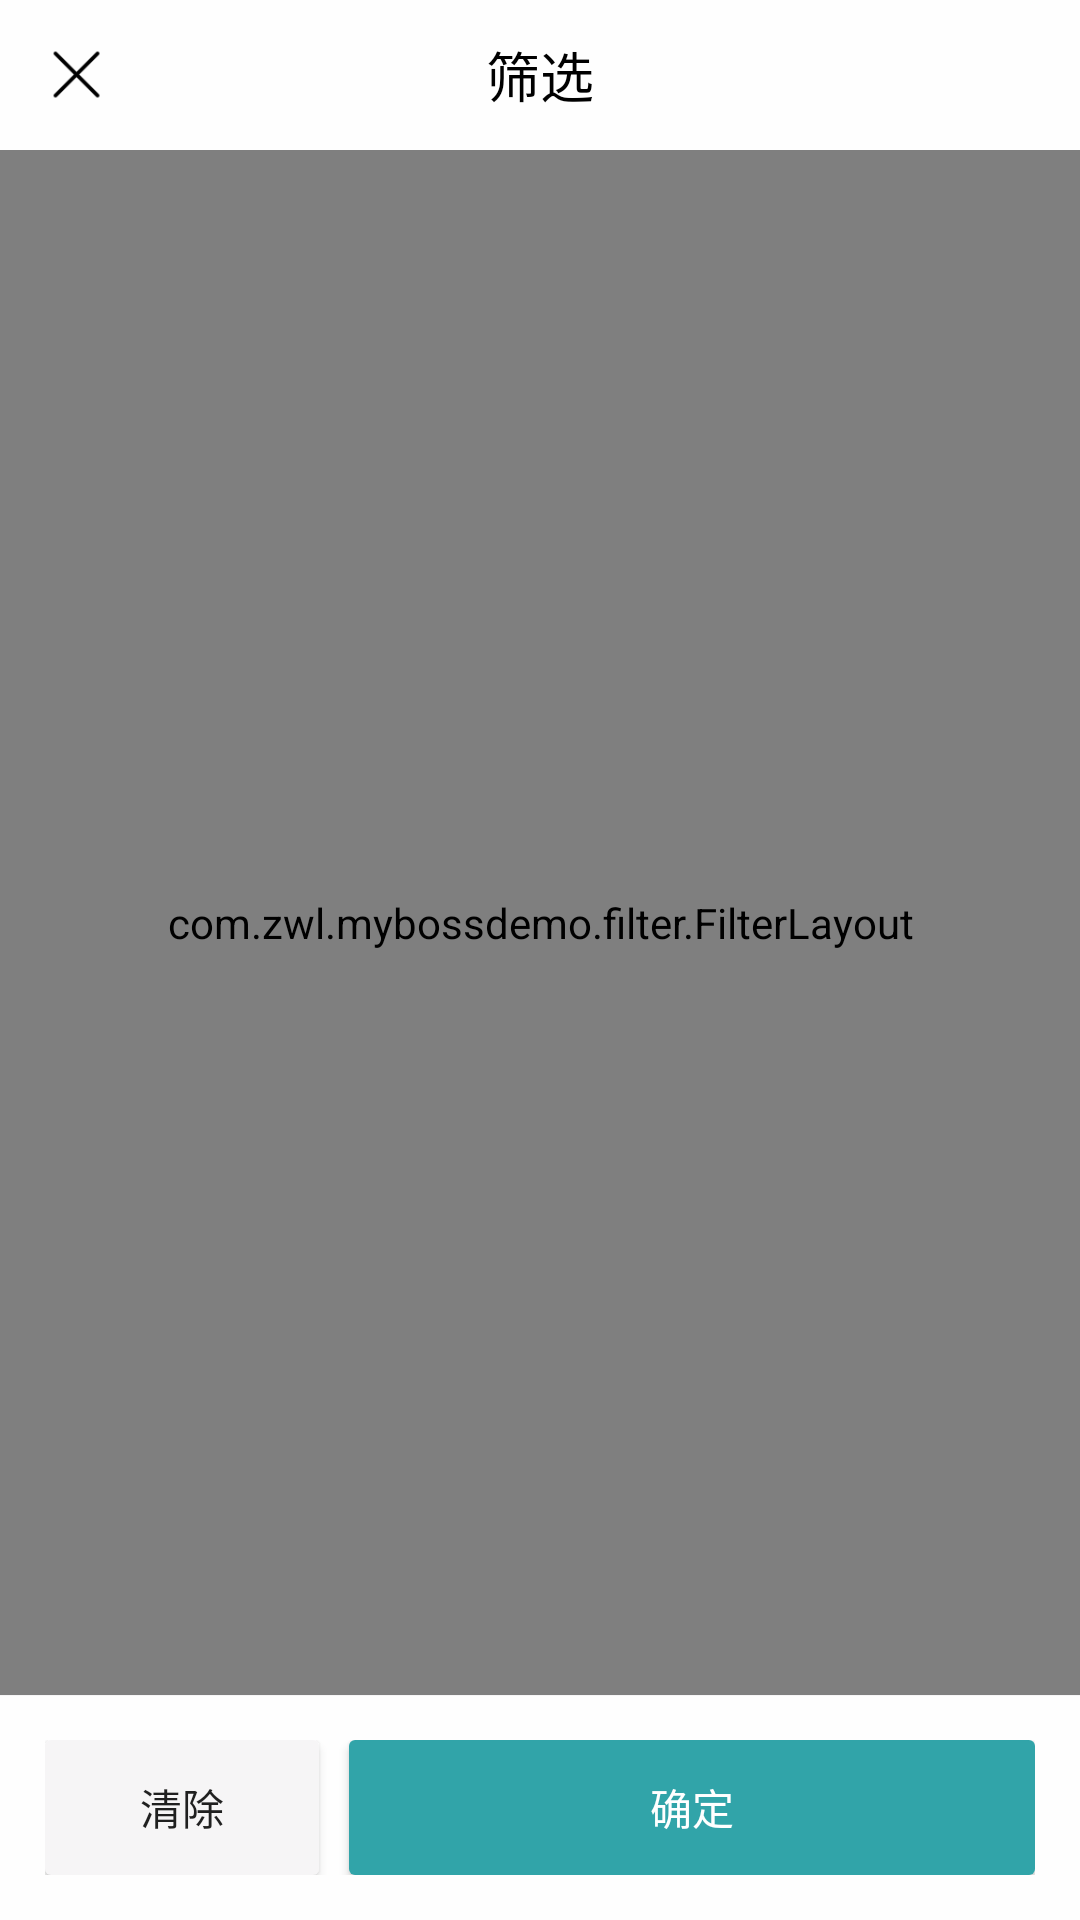

Named icons in this screenshot (1080x1920) and their centers, (x,y):
boss filter guanbi: (76,74)
